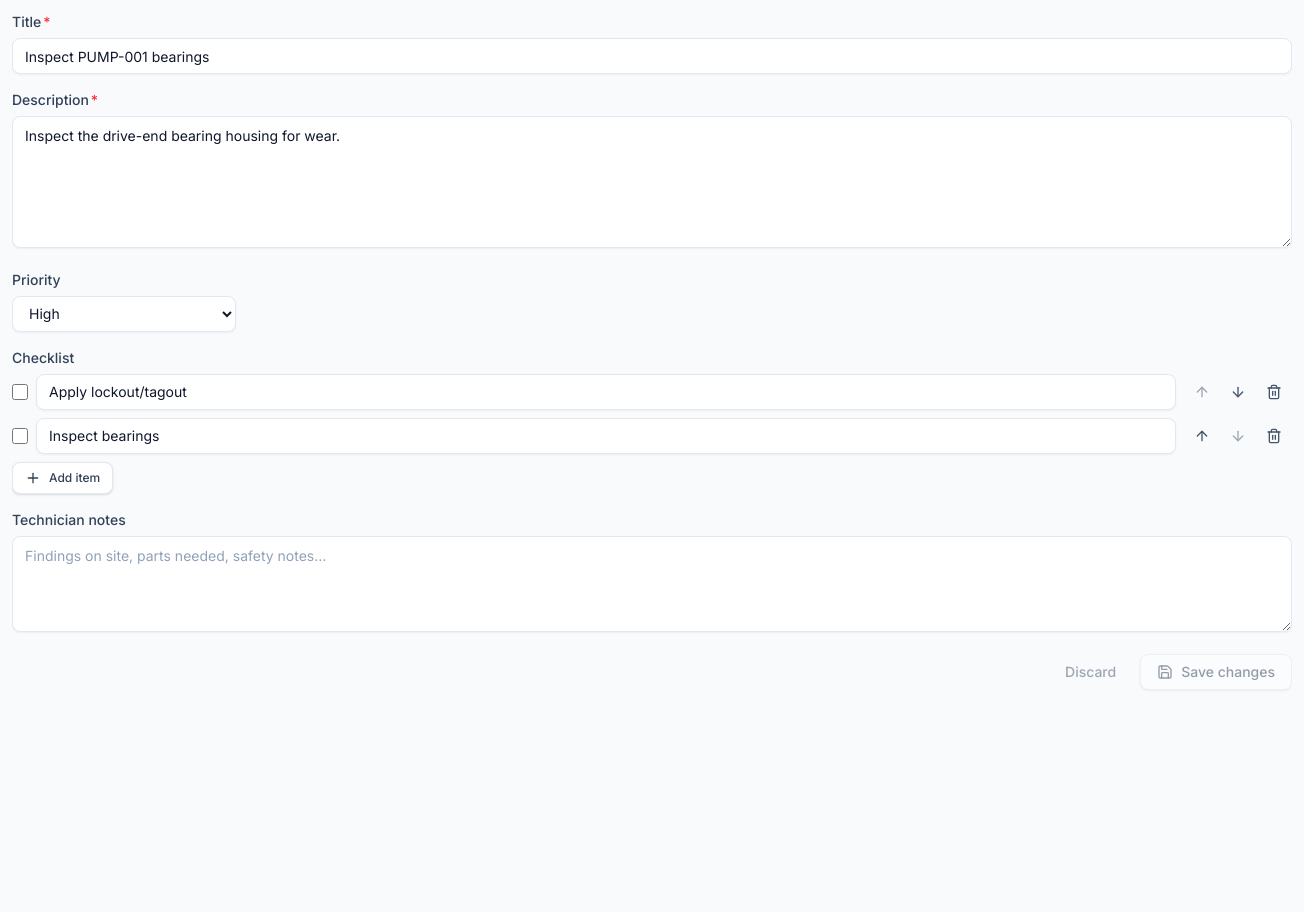
Test case: WorkOrderEditor › validates edits before saving
Replace the text in the field labelled "Title*" with "Fix": (652, 56) [12, 38, 1292, 74]
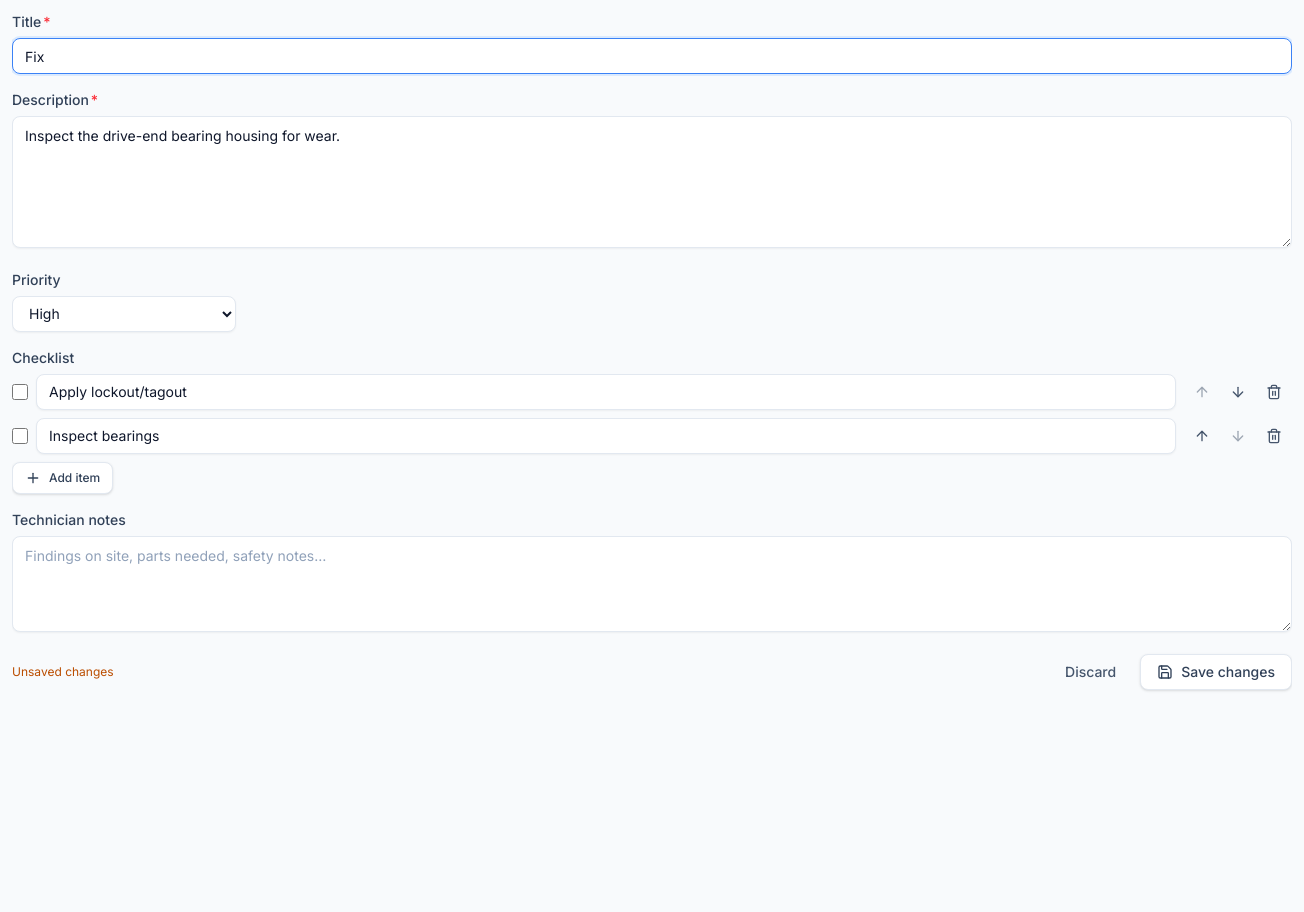
Click the button "Save changes": (1216, 672) [1140, 654, 1292, 690]
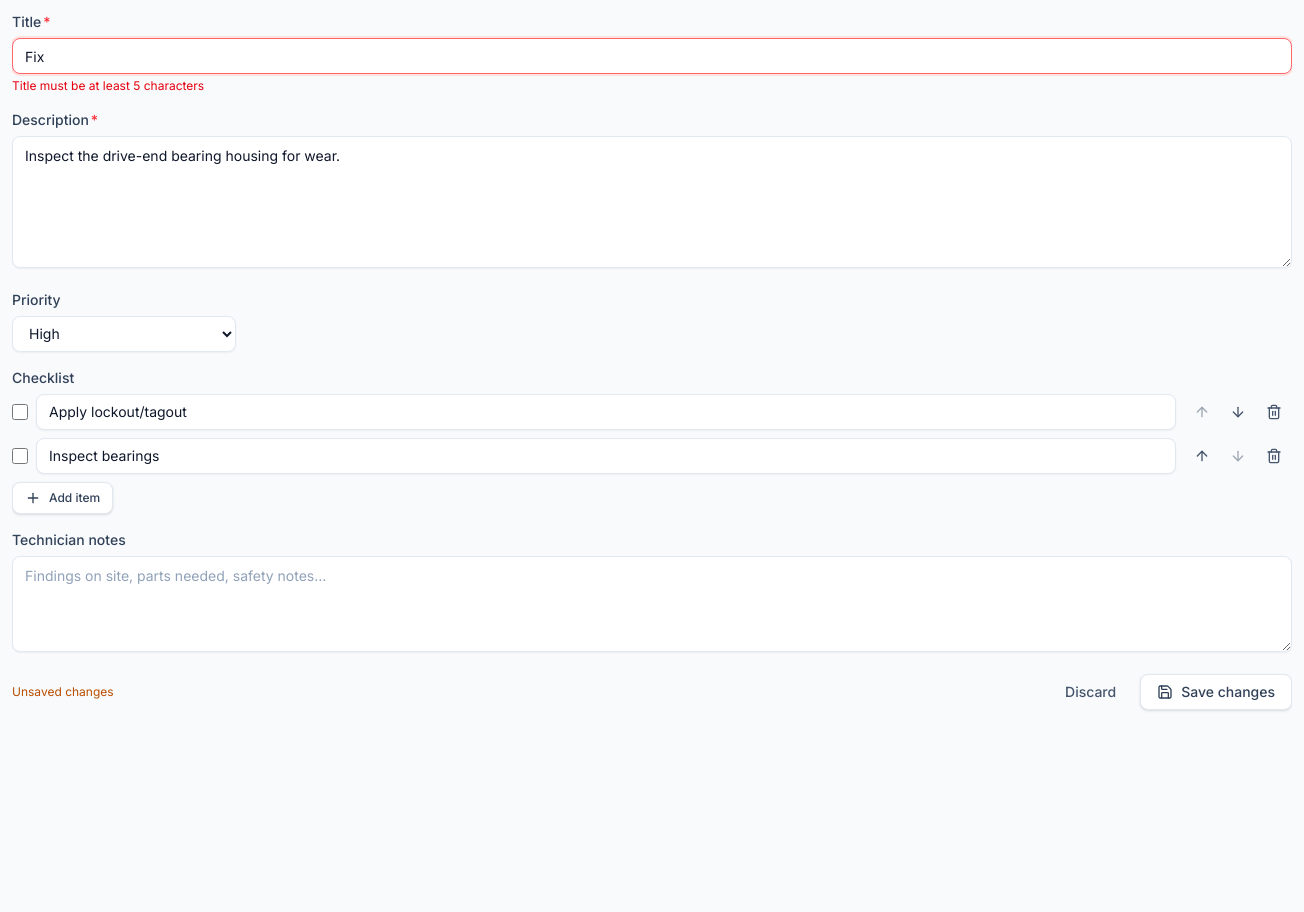
Expected: the text "Title must be at least 5 characters" is shown, [12, 78, 204, 93]
